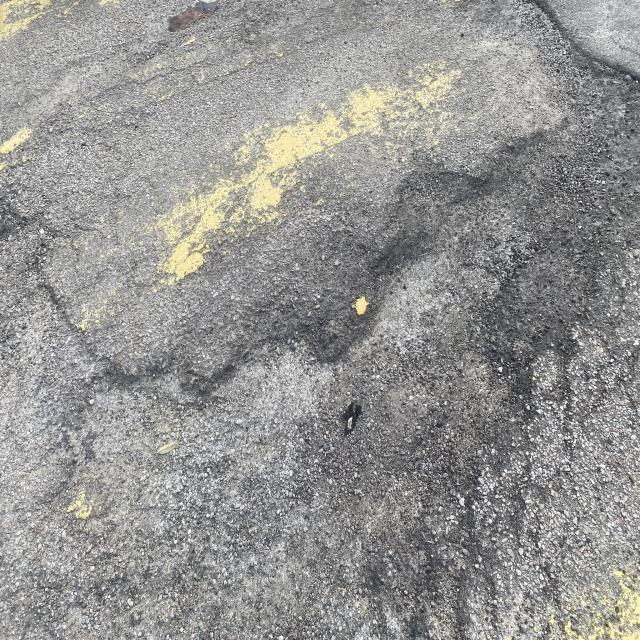pothole: (222, 160, 574, 568)
